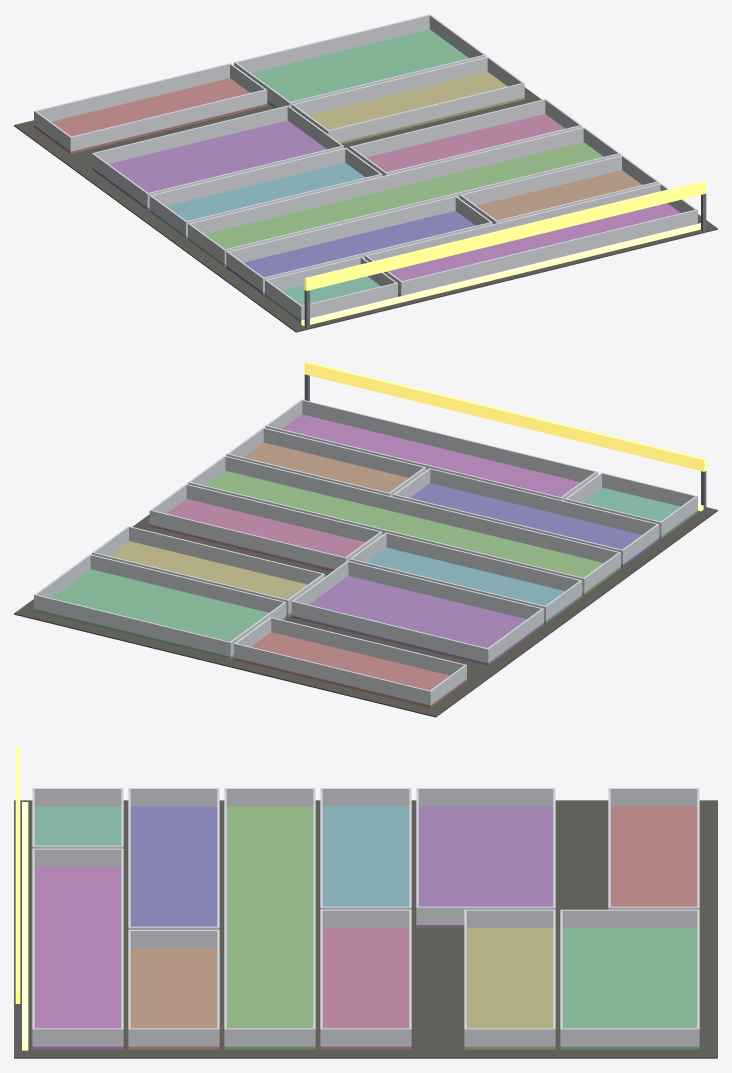
Rendered from hall-substation.glb.
3 renders of one model, top to bottom at view 1: azimuth 30°, elevation 25°; view 2: azimuth 150°, elevation 25°; view 3: azimuth 270°, elevation 25°, orthographic. The views are drawn at different scales.
Visible parts, largest first — view 1: Substation Technicians; view 2: Substation Technicians; view 3: Substation Technicians.
Boxes of the visible parts, left/top/right/bottom form: Substation Technicians: left=14, top=14, right=717, bottom=332; Substation Technicians: left=14, top=361, right=717, bottom=717; Substation Technicians: left=14, top=746, right=717, bottom=1058.
Bounding box in the file's own units: 38 × 4.3 × 44.
